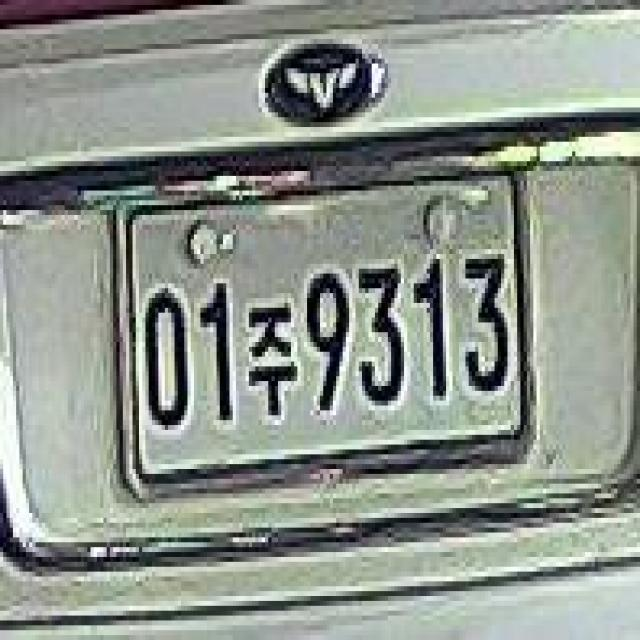illegal_plate: (113, 163, 537, 491)
